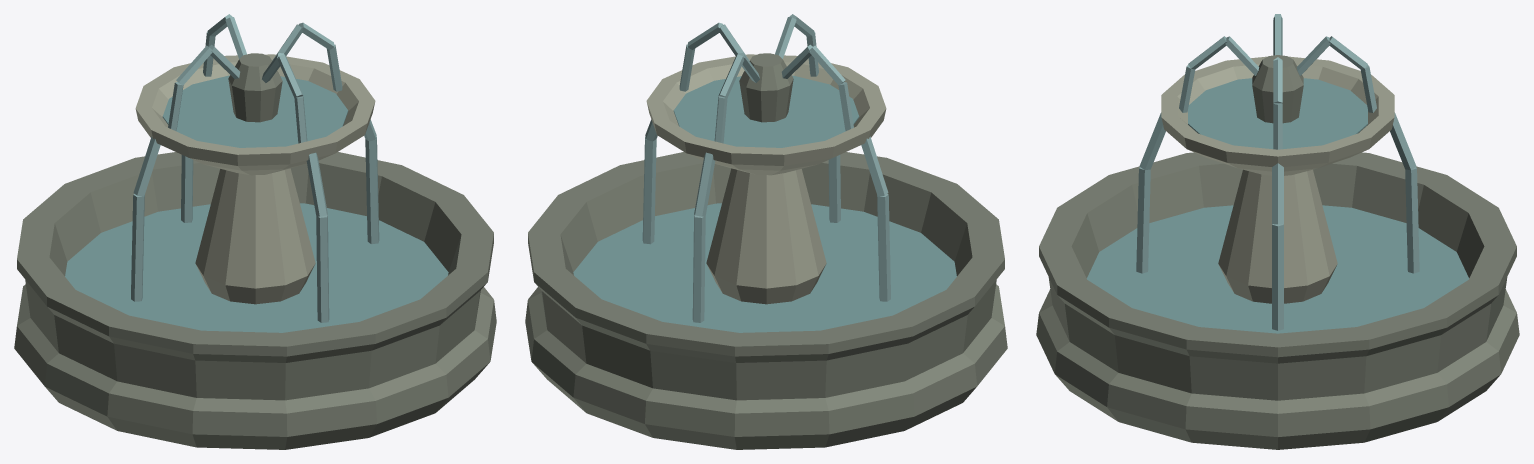
File: decor_fountain.glb
3 views of the same model, side by side, from view 1: azimuth 30°, elevation 25°; view 2: azimuth 150°, elevation 25°; view 3: azimuth 270°, elevation 25° (orthographic).
Parts seen in each view (by area): view 1: geometry; view 2: geometry; view 3: geometry.
Boxes of the visible parts, x1,y1,x2,y2 form: geometry: (14,14,496,449); geometry: (525,14,1007,449); geometry: (1036,14,1519,449).
Size of the model in its own units: 1.78 by 1.29 by 1.78.
